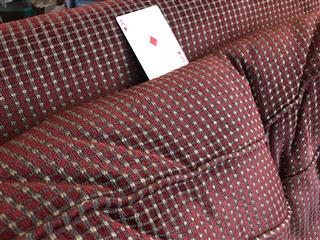AceOfDiamonds: (115, 4, 189, 80)
